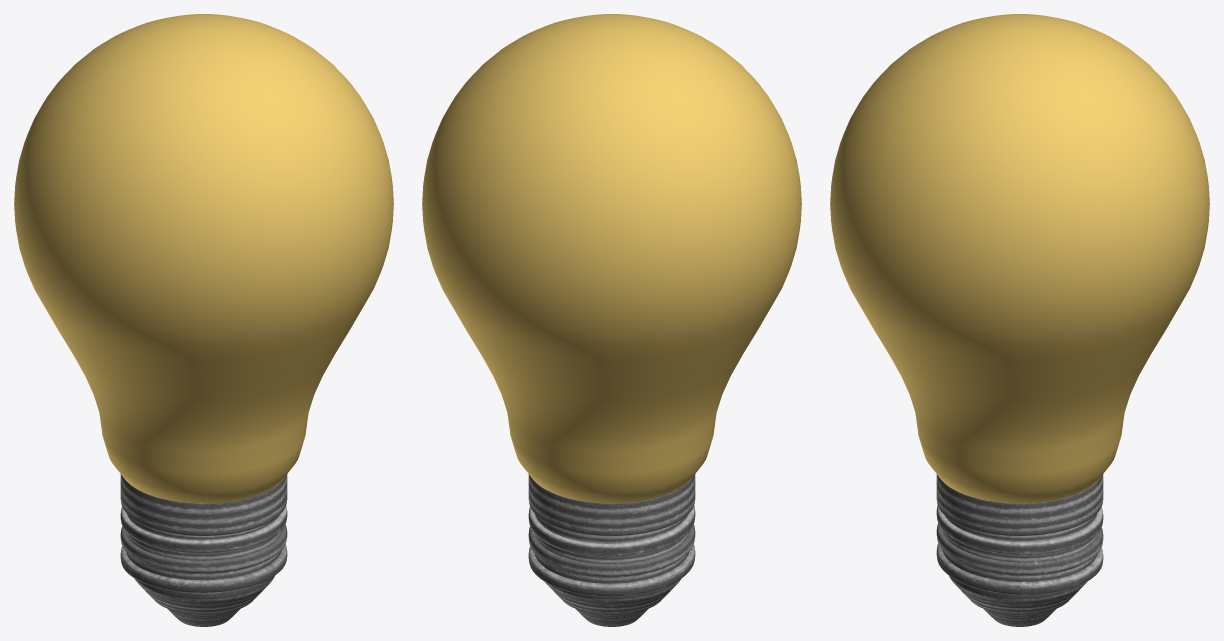
Rendered from Bulb.obj.
3 renders of one model, left to right at view 1: azimuth 30°, elevation 25°; view 2: azimuth 150°, elevation 25°; view 3: azimuth 270°, elevation 25°, orthographic.
Visible parts, largest first — view 1: Object01, Object04; view 2: Object01, Object04; view 3: Object01, Object04.
Part boxes in pixels (x1,y1,x2,y2): Object01: (14, 14, 393, 503); Object04: (120, 474, 287, 626); Object01: (422, 14, 801, 503); Object04: (528, 474, 695, 626); Object01: (830, 14, 1209, 503); Object04: (936, 474, 1103, 626).
Size of the model in its own units: 4.78 by 8.13 by 4.78.
Materials: 2 (2 with a texture image).
